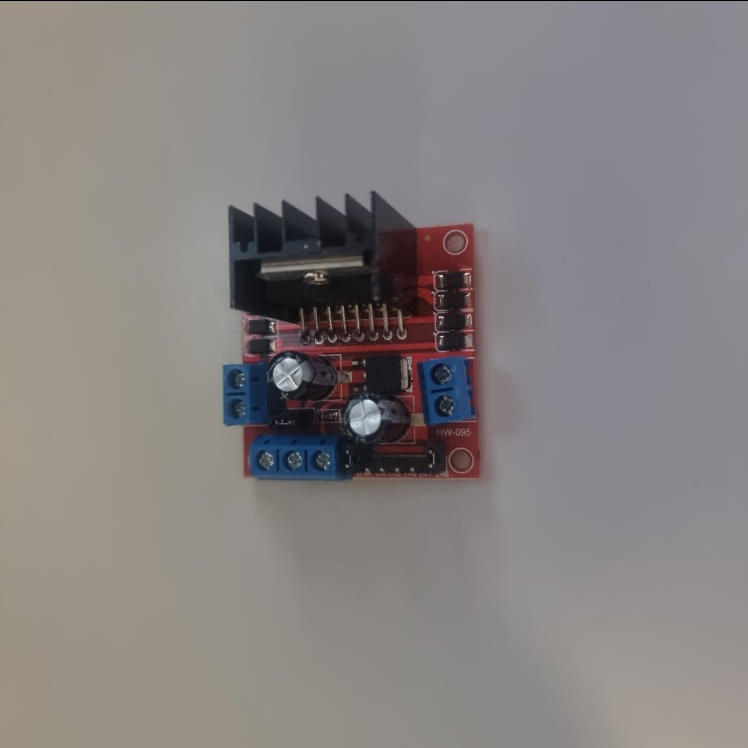MOTOR: (222, 184, 477, 482)
